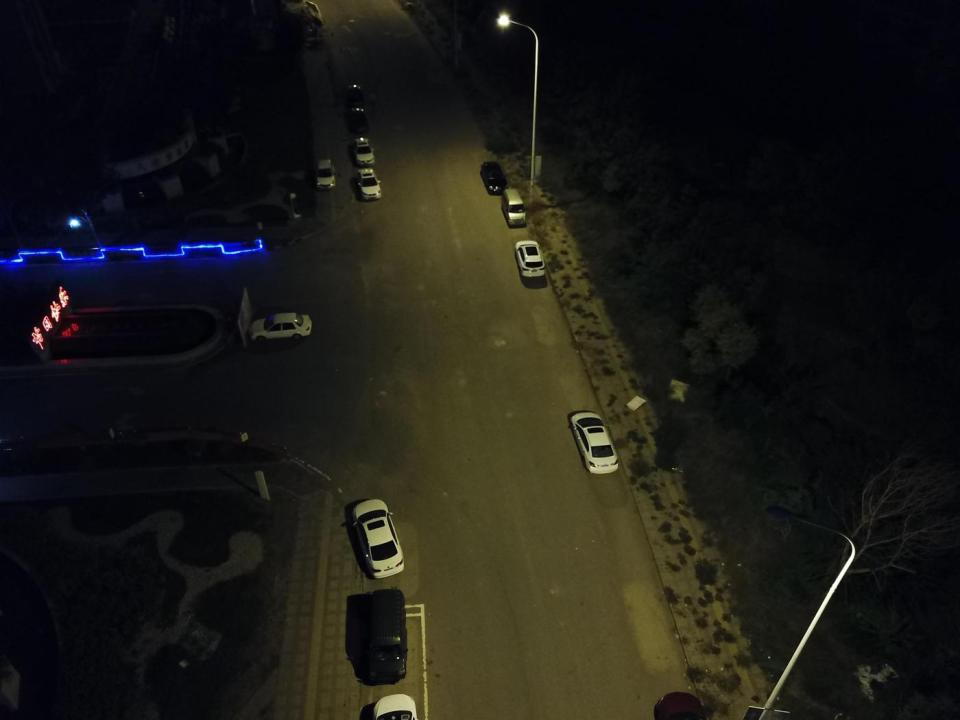car: (352, 499, 404, 578), (570, 412, 618, 474), (247, 312, 312, 342), (513, 239, 546, 281), (481, 162, 508, 194), (357, 167, 382, 200), (353, 137, 375, 165), (316, 159, 336, 189), (348, 106, 369, 132), (348, 85, 364, 105)
van: (368, 588, 408, 682), (501, 188, 526, 225)
